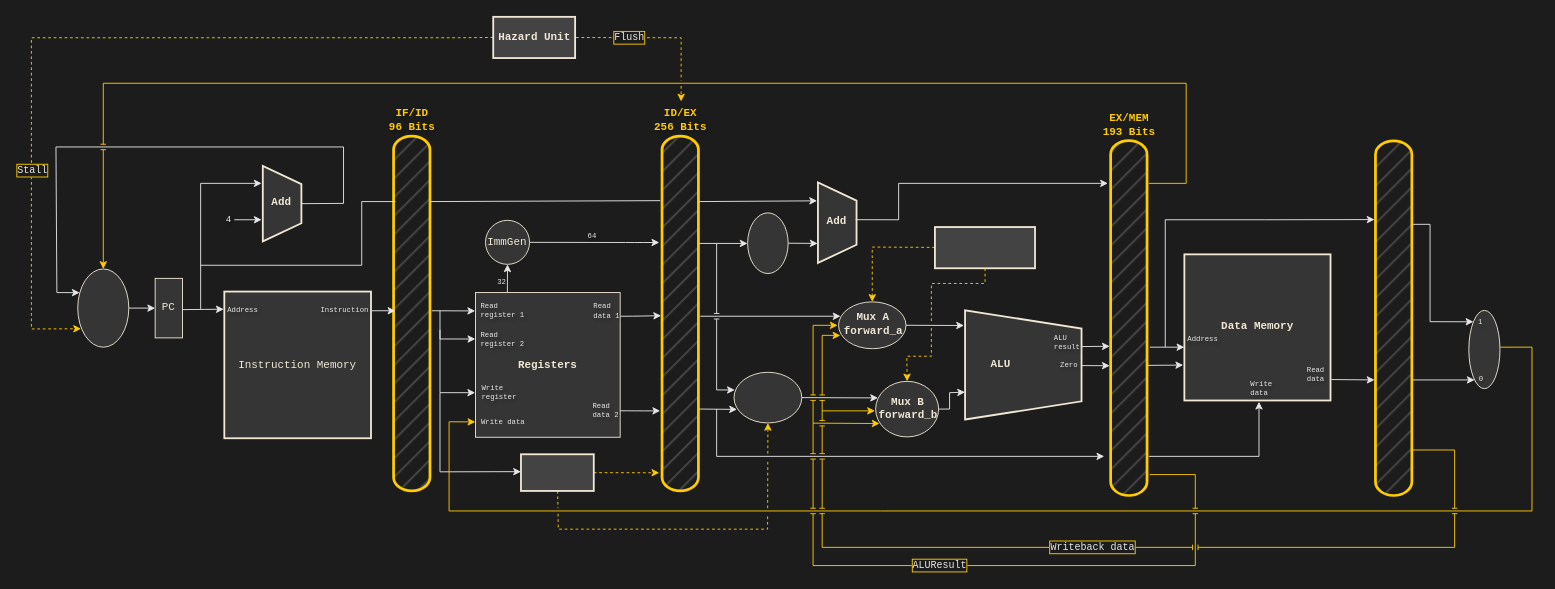
Image size: 1555x589. Some labels were removed from this diagram. Here are the shapes that lost their labels. From the top down, the centre of each, then its label:
At (767,243): "left 1 Shift".
At (984,247): "Forwarding Unit".
At (103,307): "pc_src Mux PC".
At (1393,317): "MEM/WB 128 Bits".
At (1484,349): "x u M".
At (767,397): "alu_src Mux Src".
At (557,472): "Control Unit".
